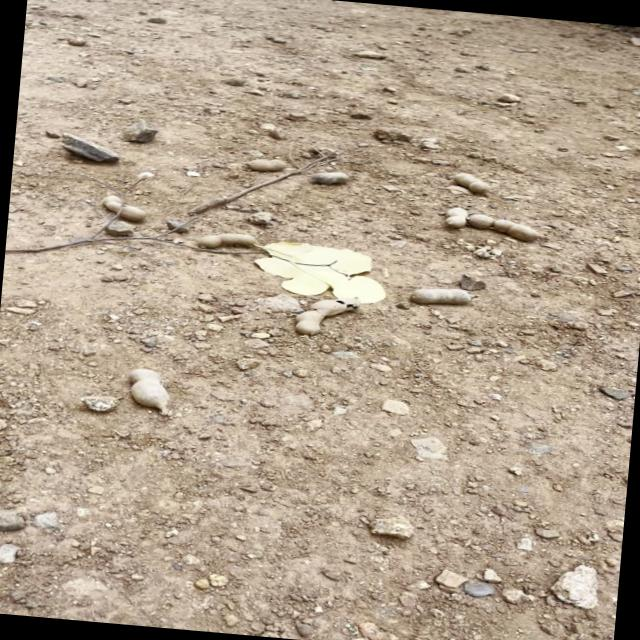tamarind: (115, 364, 177, 414), (395, 282, 479, 311), (468, 210, 542, 242), (190, 227, 260, 254), (98, 191, 146, 220), (444, 168, 494, 193), (440, 201, 472, 230), (240, 156, 288, 173)
